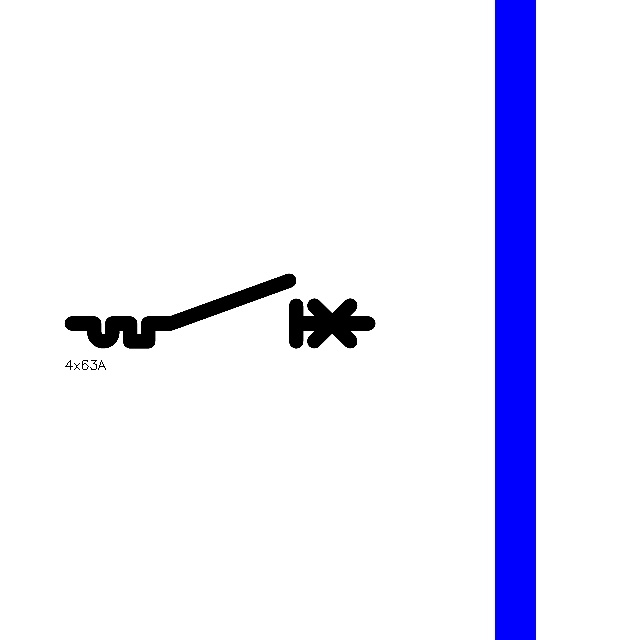interruptor_termomagnetico: (64, 273, 376, 349)
